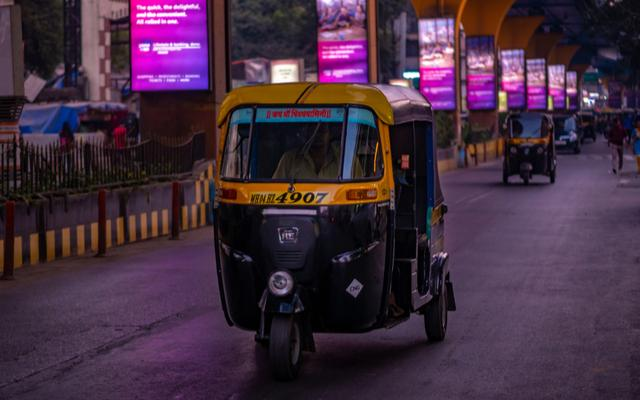rickshaw: (206, 68, 466, 393), (498, 102, 563, 191)
